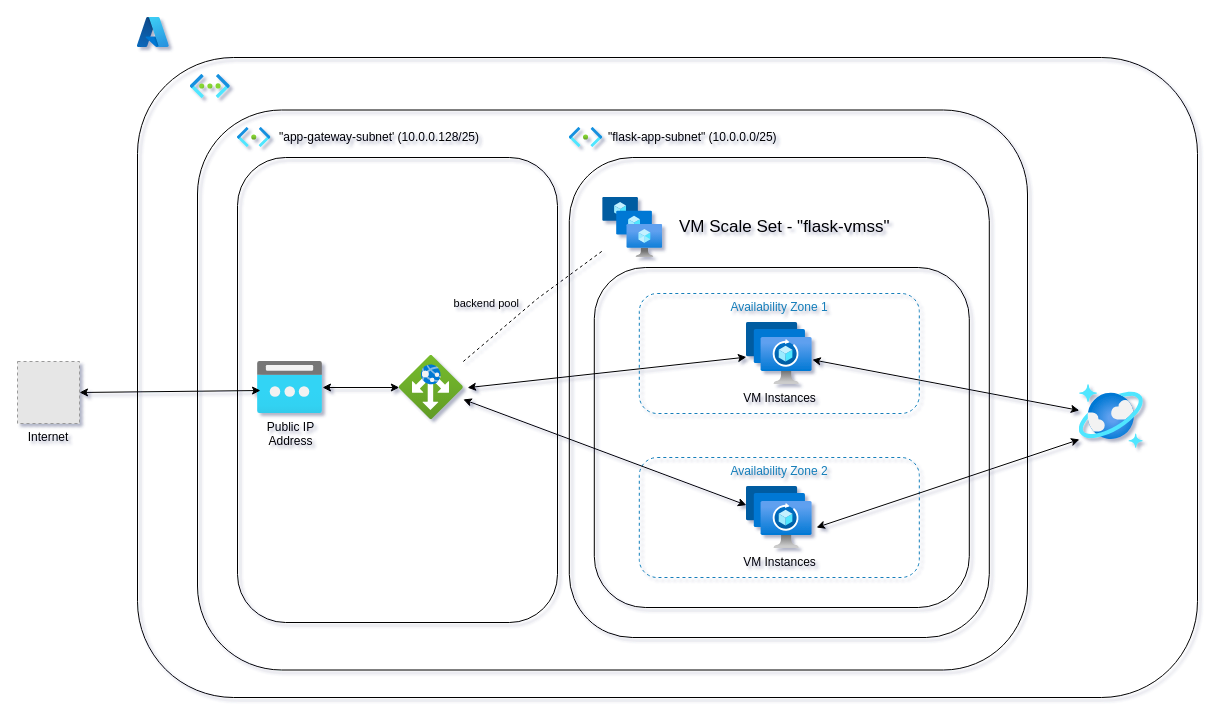
Image size: 1221x721. Some labels were removed from this diagram. Grey dashed boxes stand in for pictures. The shapes that lost their labels are listed below. From the top down, each one's centre as x and y in pixels, then its label:
[153,32]: Azure Cloud - US Central Region
[210,86]: Virtual Network - "flask-app-vnet" (10.0.0.0/23)
[431,387]: Application Gateway ("flask-app-gateway")
[1111,416]: Cosmos DB Candidates Table
